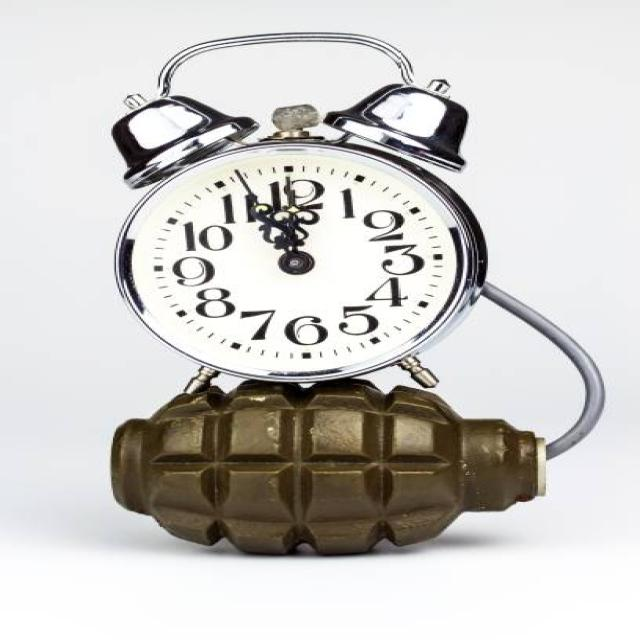grenade: (108, 376, 560, 562)
